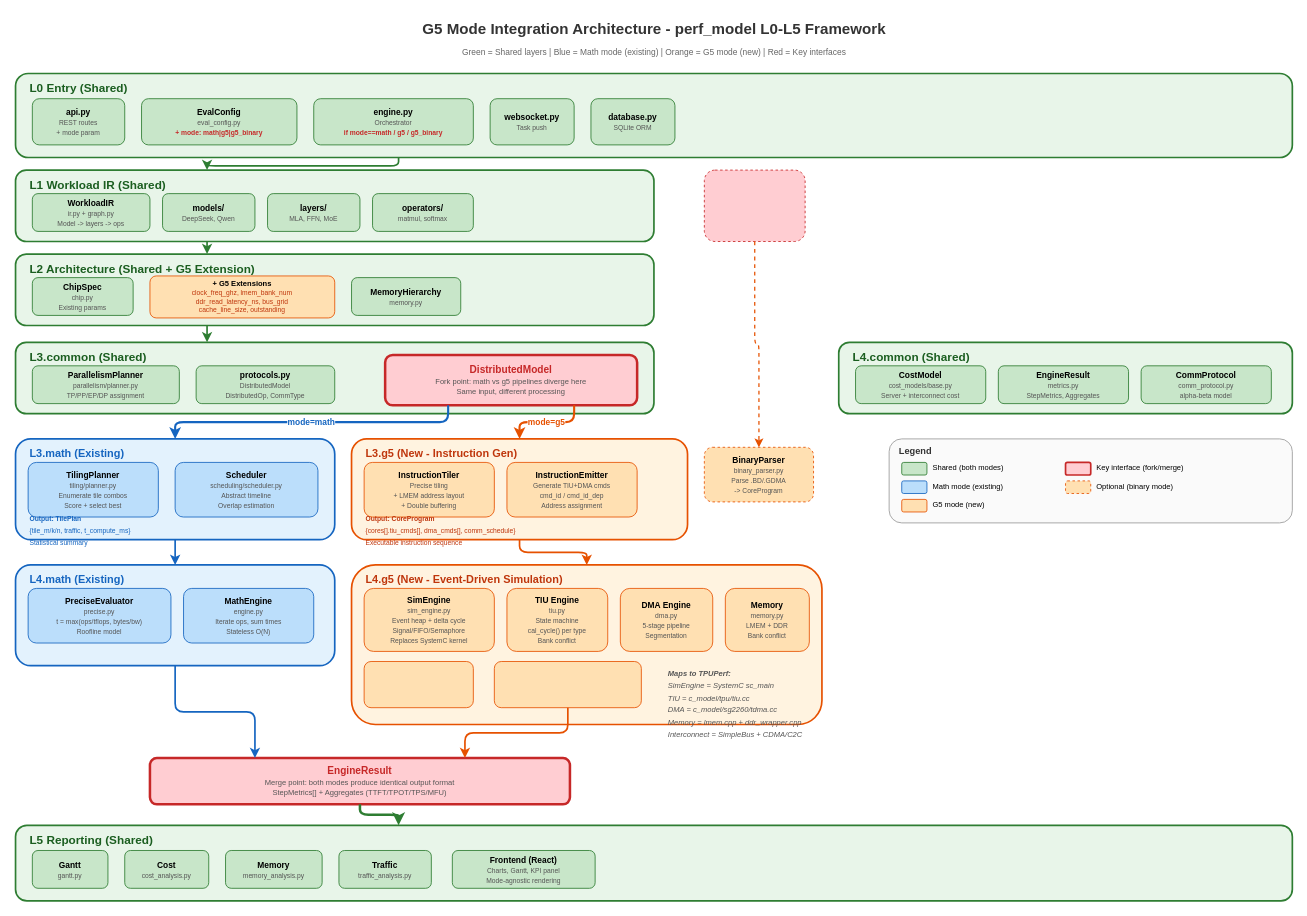
The diagram is 1307 pixels wide and 916 high, and some of its shapes have lost their labels. Here are the shapes that lost their labels. From the top down, the box of each, then its label:
(704, 169, 805, 242): g5_binary mode skips L1 + L3 directly loads CoreProgram from .BD/.GDMA
(363, 661, 473, 708): Interconnect interconnect.py Bus + C2C + CDMA
(494, 661, 641, 708): Adapter adapter.py Sim events -> EngineResult Aggregate by source_op_id
